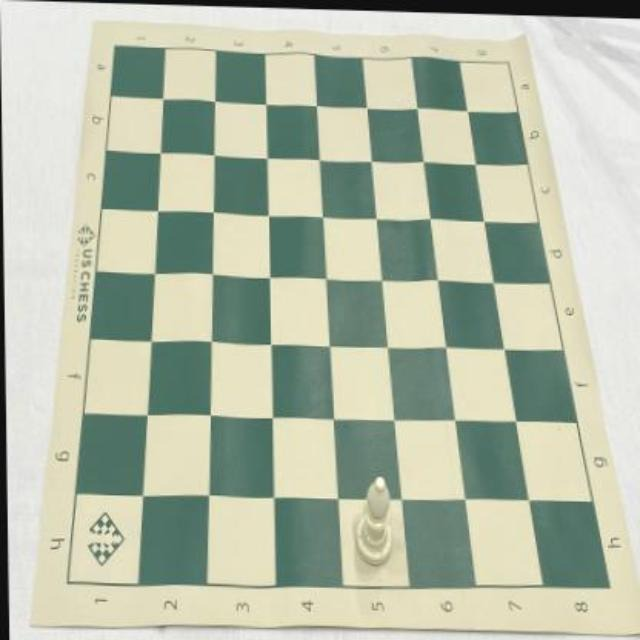white-bishop: (354, 474, 392, 566)
